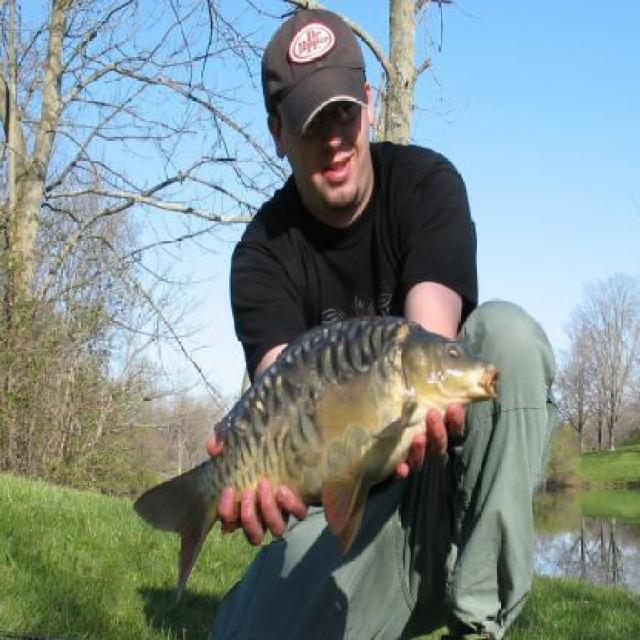Person: (198, 0, 558, 638)
